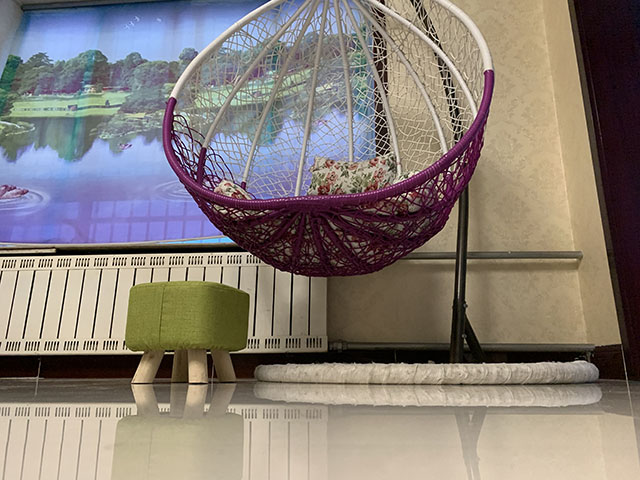stool: (124, 280, 250, 386)
